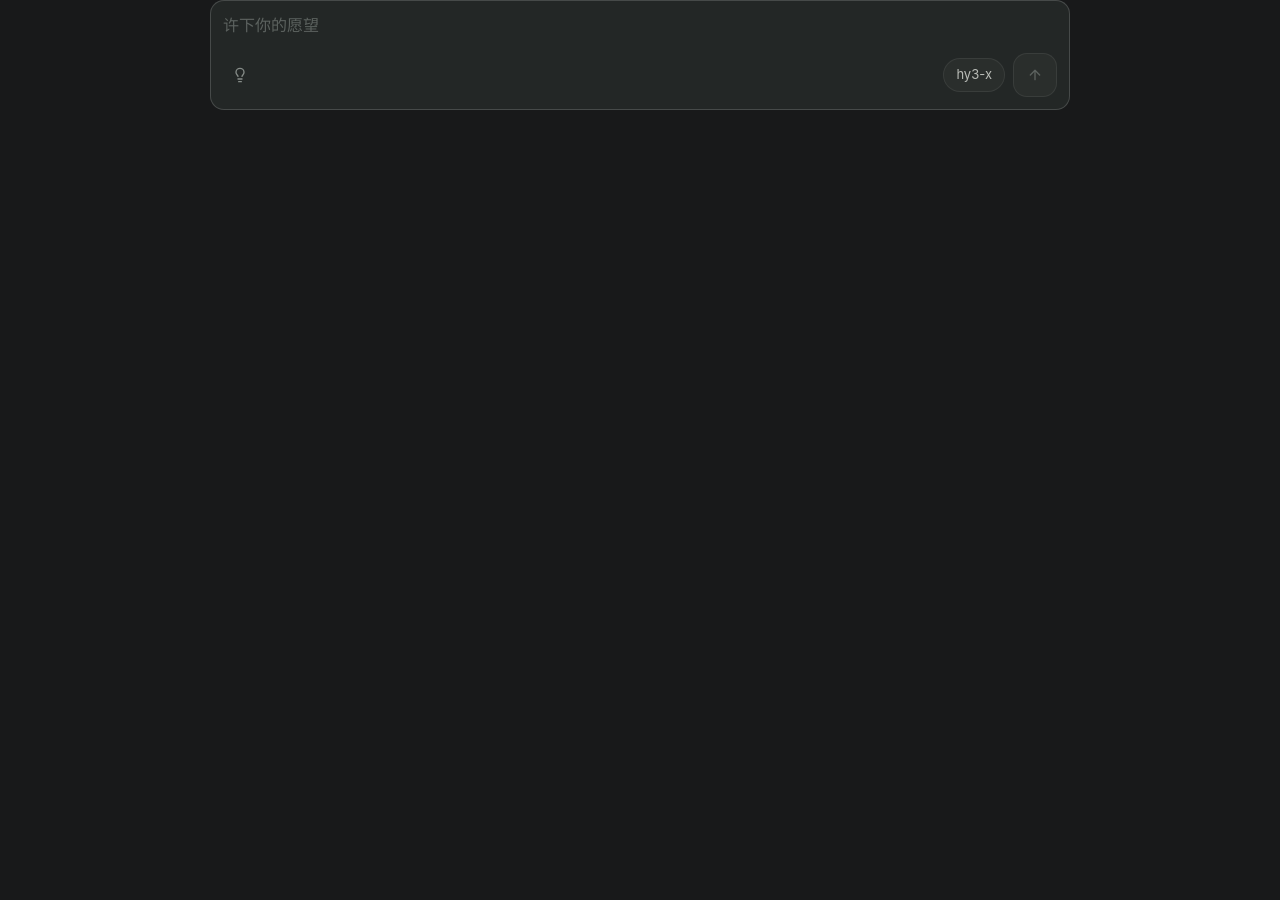
Scenario: ComposerControls 只读态 › 模型选择按分组展示
Click the button "hy3-x". click: (974, 75)
box: [943, 58, 1005, 92]
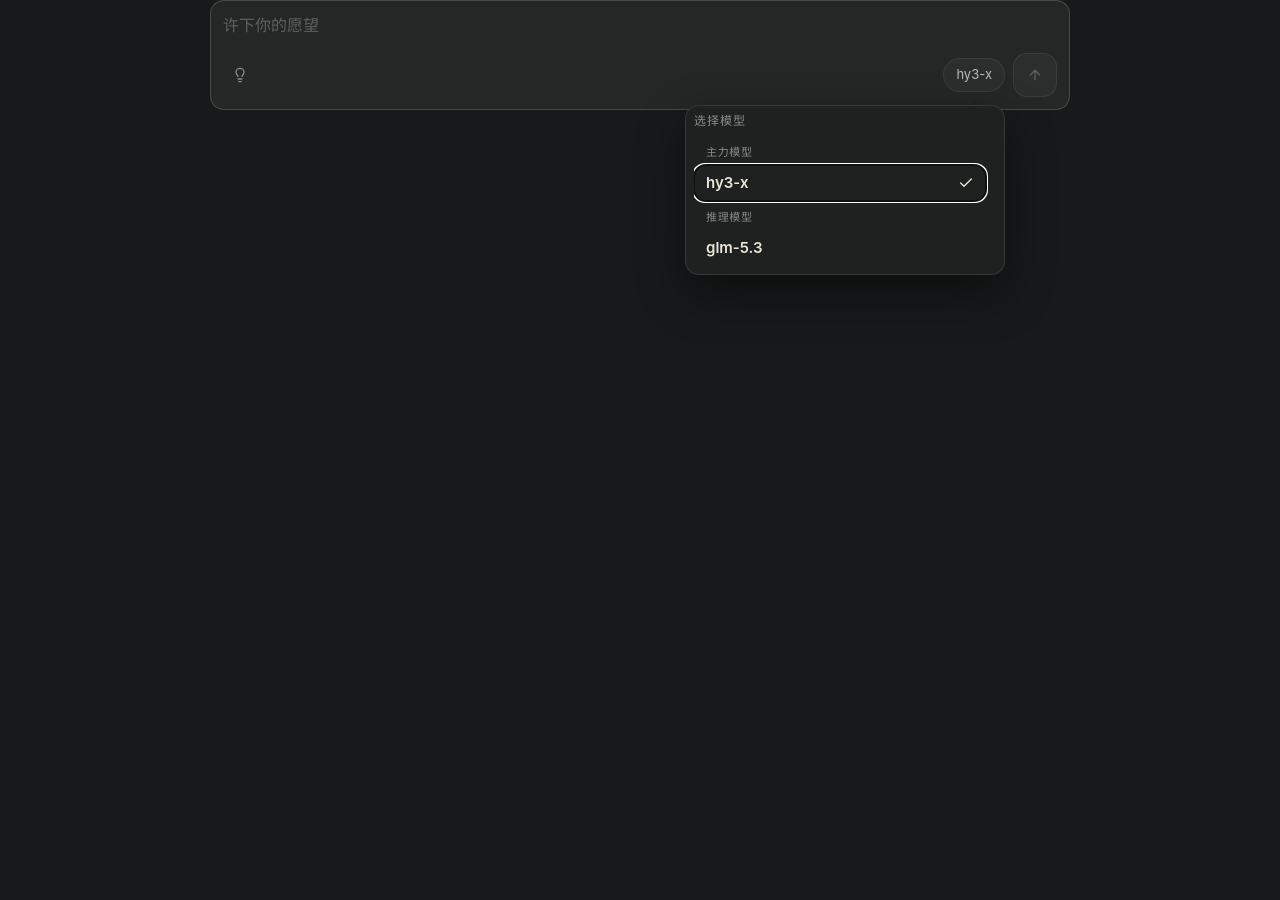
Expected: the text "主力模型" is shown, [706, 145, 753, 159]
Expected: the text "推理模型" is shown, [706, 210, 753, 224]
